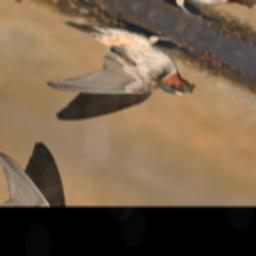Swallow: (9, 0, 217, 161)
